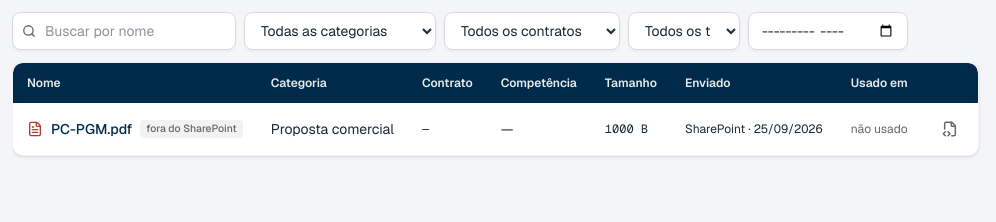
Test: falha na conversão aparece na lista e não navega
Click the button named "Converter PC-PGM.pdf em Markdown" at (950, 129), box [936,115,964,143]
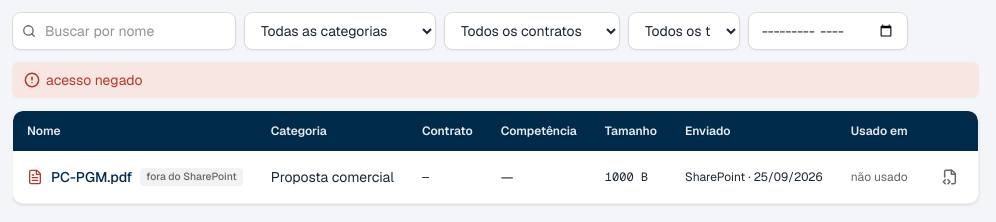
Expected: the text "acesso negado" is shown, [12,62,979,98]
